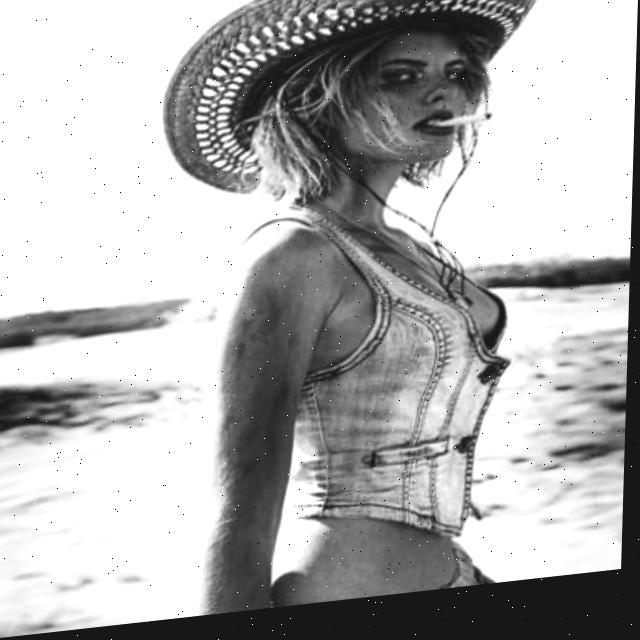cigarette: (425, 125, 493, 138)
